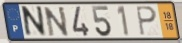1: (116, 5, 130, 38)
4: (71, 6, 91, 39)
5: (90, 5, 113, 38)
N: (42, 6, 71, 38), (21, 5, 47, 39)
P: (134, 5, 158, 37)
